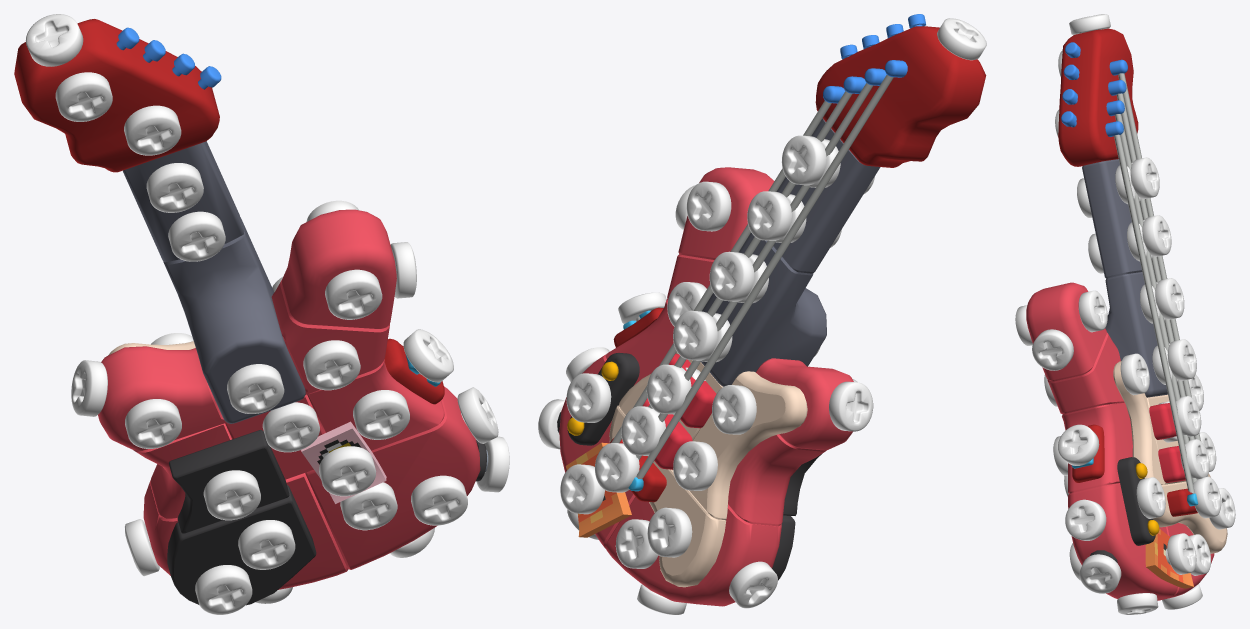
Rendered from Eguitar.fbx.
3 renders of one model, left to right at view 1: azimuth 30°, elevation 25°; view 2: azimuth 150°, elevation 25°; view 3: azimuth 270°, elevation 25°, orthographic. The views are drawn at different scales.
Visible parts, largest first — view 1: Screw (×23), Eguitar_021, Eguitar_001, Eguitar_008, Eguitar_024, Eguitar_012, Eguitar_003, Eguitar_004, Eguitar_002, Eguitar_011, Eguitar_023, Eguitar_009 (+4 smaller); view 2: Screw (×22), Eguitar_021, Eguitar_005, Eguitar_001, Eguitar_011, Eguitar_019, Eguitar_002, Eguitar_010, Eguitar_017, Eguitar_012, Eguitar_024, Eguitar_020 (+10 smaller); view 3: Screw (×29), Eguitar_021, Eguitar_005, Eguitar_008, Eguitar_024, Eguitar_002, Eguitar_001, Eguitar_023, Eguitar_009, Eguitar_018, Eguitar_020, Eguitar_017 (+7 smaller).
Boxes of the visible parts, <box> form: Screw (×23): <box>25,14,509,614</box>; Eguitar_021: <box>14,19,221,172</box>; Eguitar_001: <box>163,217,305,423</box>; Eguitar_008: <box>305,386,480,569</box>; Eguitar_024: <box>281,209,396,328</box>; Eguitar_012: <box>98,346,226,450</box>; Eguitar_003: <box>167,485,316,605</box>; Eguitar_004: <box>169,430,289,533</box>; Eguitar_002: <box>123,141,243,262</box>; Eguitar_011: <box>143,473,348,589</box>; Eguitar_023: <box>307,359,444,450</box>; Eguitar_009: <box>271,280,389,394</box>; Screw (×22): <box>538,18,986,614</box>; Eguitar_021: <box>815,14,986,167</box>; Eguitar_005: <box>611,60,907,478</box>; Eguitar_001: <box>701,232,826,386</box>; Eguitar_011: <box>606,497,781,606</box>; Eguitar_019: <box>673,371,807,520</box>; Eguitar_002: <box>773,118,880,273</box>; Eguitar_010: <box>728,434,826,526</box>; Eguitar_017: <box>609,405,726,587</box>; Eguitar_012: <box>756,358,853,450</box>; Eguitar_024: <box>678,167,774,259</box>; Eguitar_020: <box>567,353,639,445</box>; Screw (×29): <box>1015,14,1235,614</box>; Eguitar_021: <box>1058,28,1138,166</box>; Eguitar_005: <box>1105,59,1208,493</box>; Eguitar_008: <box>1068,483,1177,599</box>; Eguitar_024: <box>1026,282,1106,381</box>; Eguitar_002: <box>1082,159,1142,278</box>; Eguitar_001: <box>1105,272,1167,397</box>; Eguitar_023: <box>1062,402,1132,493</box>; Eguitar_009: <box>1047,332,1124,414</box>; Eguitar_018: <box>1113,361,1164,484</box>; Eguitar_020: <box>1117,457,1159,545</box>; Eguitar_017: <box>1153,481,1227,553</box>.
Bounding box in the file's own units: 7.78 × 10.48 × 4.19.
Materials: 2 (1 with a texture image).
